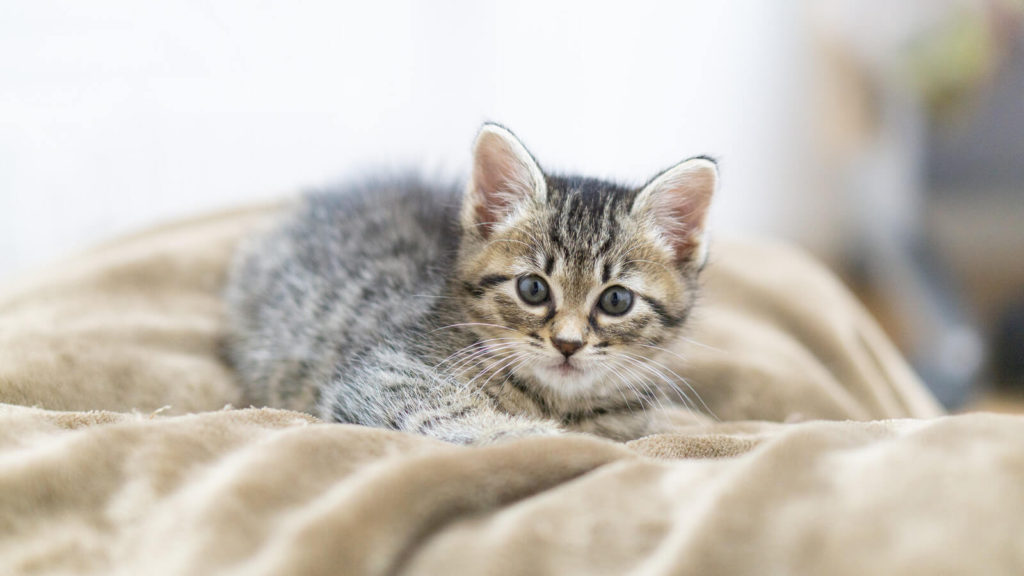cat: (203, 134, 730, 446)
